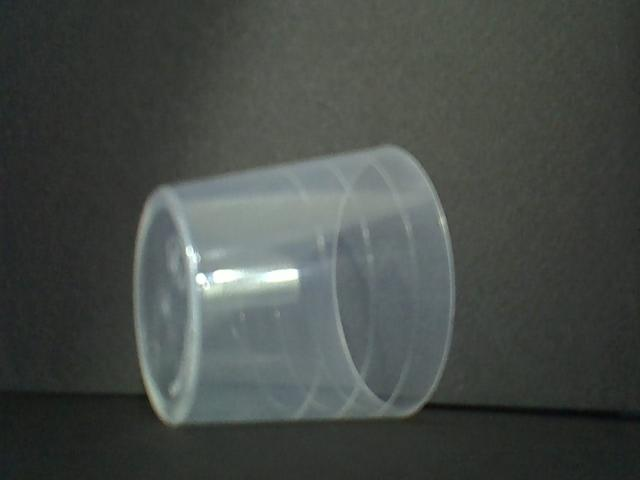cup: (131, 143, 455, 424)
